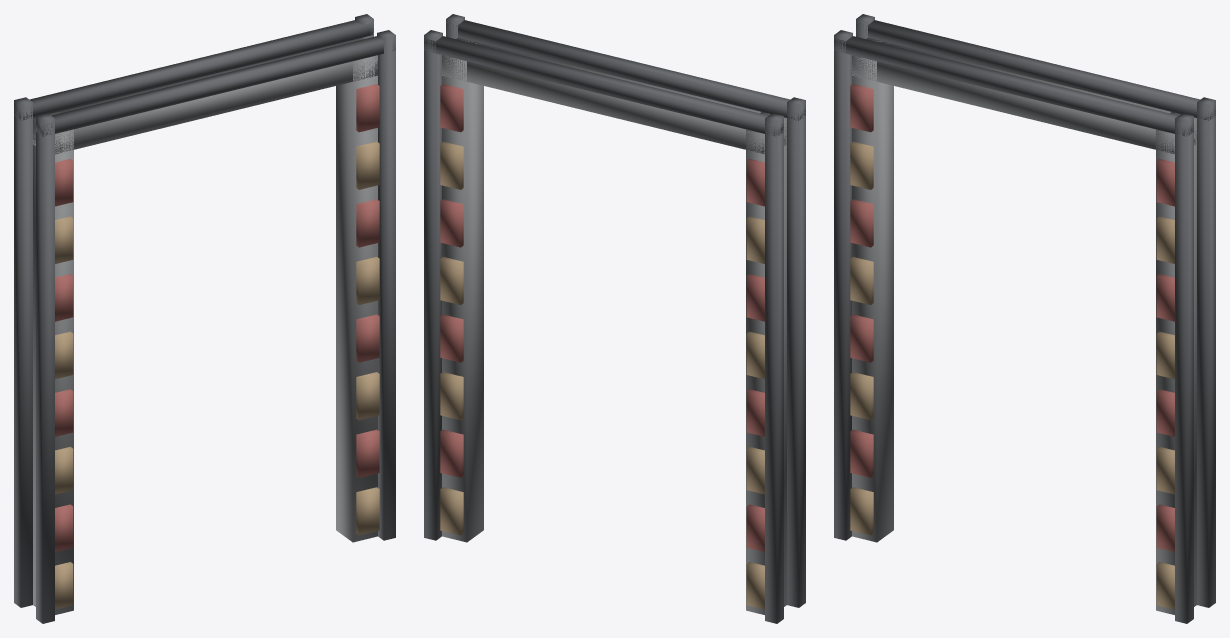
The model's file is doorway_brick_return_w152_h240_d16.glb.
The picture shows the model from 3 angles, left to right: view 1: azimuth 30°, elevation 25°; view 2: azimuth 150°, elevation 25°; view 3: azimuth 330°, elevation 25°; orthographic projection.
Parts seen in each view (by area): view 1: world; view 2: world; view 3: world.
Boxes of the visible parts, left/top/right/bottom form: world: left=14, top=14, right=395, bottom=623; world: left=424, top=14, right=805, bottom=623; world: left=834, top=14, right=1215, bottom=623.
Size of the model in its own units: 1.92 by 2.62 by 0.2716.
